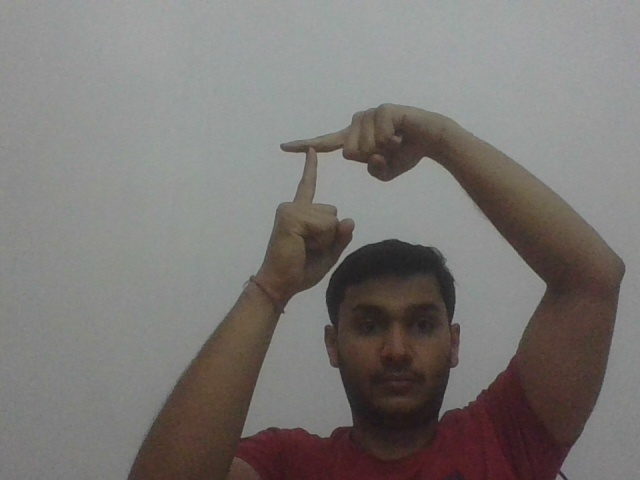T: (278, 127, 343, 205)
